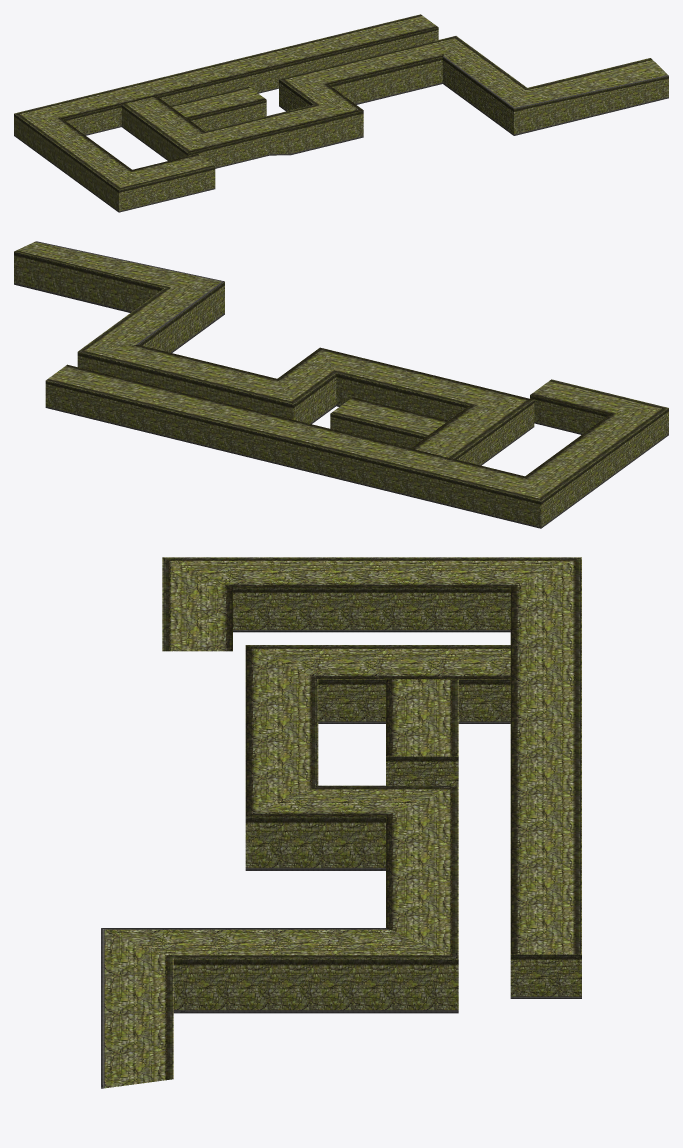
The model's file is Under_City_Hallway_2_wall01.FBX.
3 renders of one model, top to bottom at view 1: azimuth 30°, elevation 25°; view 2: azimuth 150°, elevation 25°; view 3: azimuth 270°, elevation 25°, orthographic. The views are drawn at different scales.
Visible parts, largest first — view 1: Object011; view 2: Object011; view 3: Object011.
Part boxes in pixels (<box>): Object011: <box>14,14,668,212</box>; Object011: <box>14,241,668,528</box>; Object011: <box>101,557,581,1088</box>.
Bounding box in the file's own units: 11863 × 576 × 4622.
2 materials, 2 textured.
